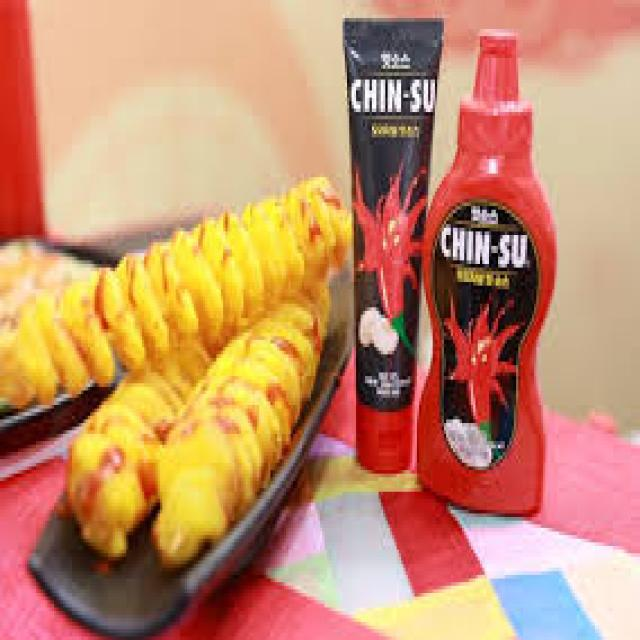tuong ot chinsu: (417, 16, 562, 526)
